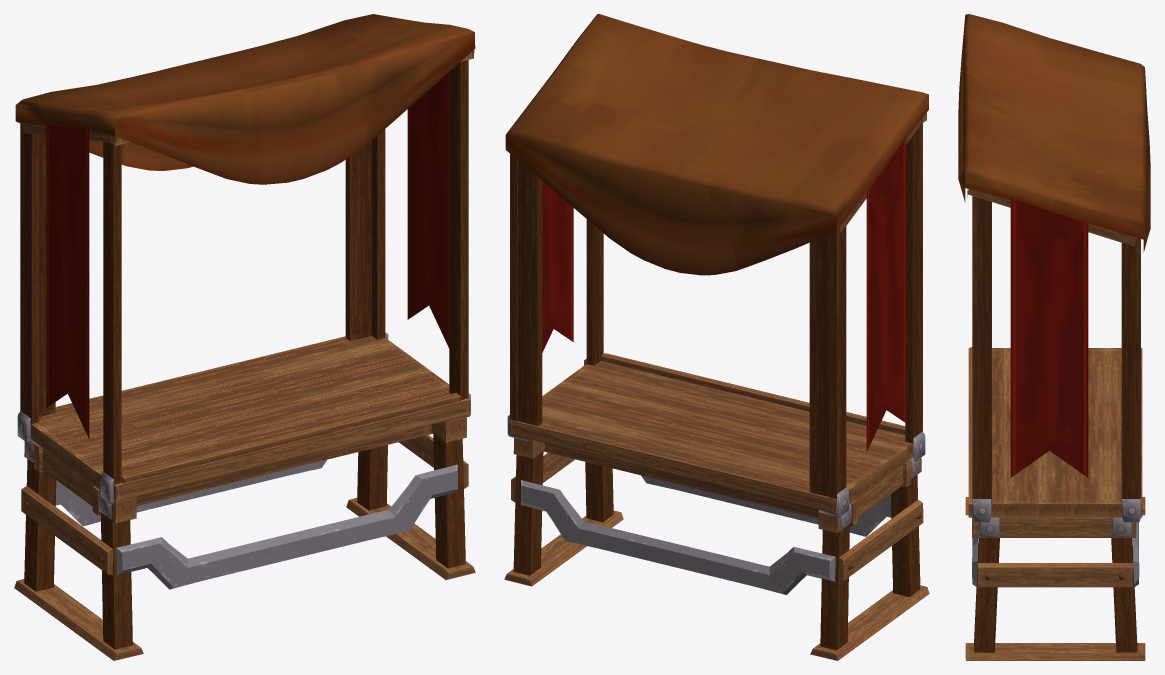
Rendered from Stall_Empty.gltf.
The picture shows the model from 3 angles, left to right: view 1: azimuth 30°, elevation 25°; view 2: azimuth 150°, elevation 25°; view 3: azimuth 270°, elevation 25°; orthographic projection. The views are drawn at different scales.
Visible parts, largest first — view 1: Stall_Empty; view 2: Stall_Empty; view 3: Stall_Empty.
Part boxes in pixels (x1,y1,x2,y2): Stall_Empty: (14, 14, 475, 660); Stall_Empty: (504, 14, 929, 660); Stall_Empty: (958, 14, 1150, 660).
Size of the model in its own units: 1.84 by 2.63 by 0.9322.
Materials: 3 (3 with a texture image).
